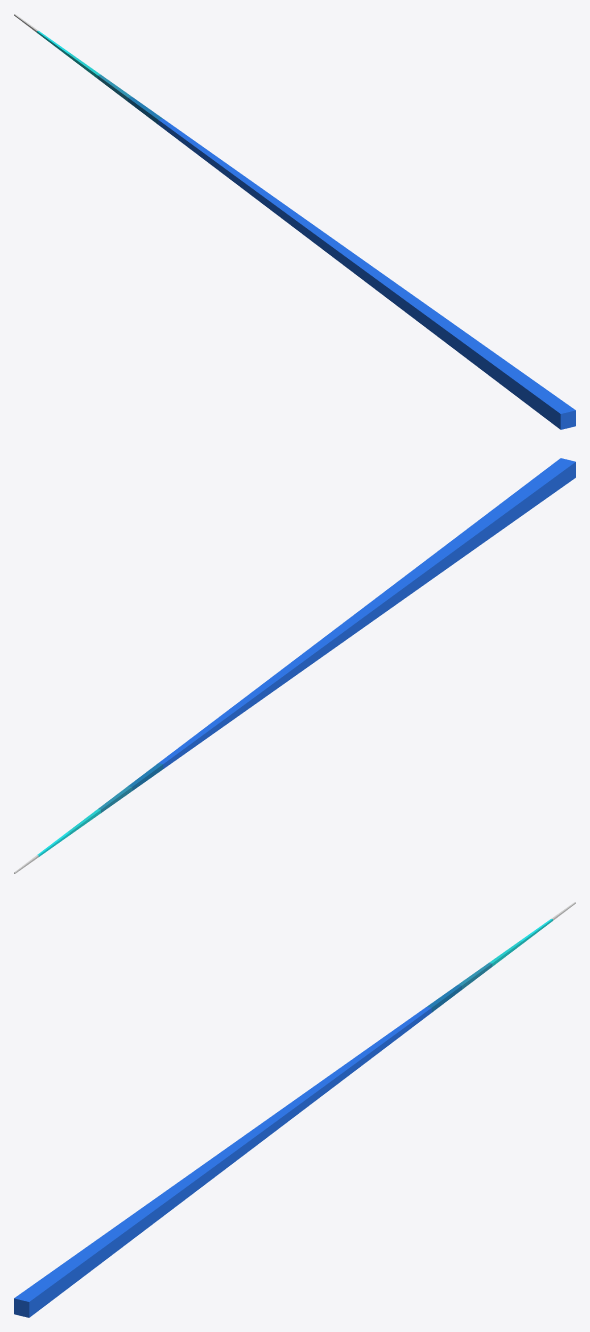
File: MONSTER-02Pj.fbx
3 views of the same model, one above another, from view 1: azimuth 30°, elevation 25°; view 2: azimuth 150°, elevation 25°; view 3: azimuth 330°, elevation 25° (orthographic).
Parts seen in each view (by area): view 1: Cube.001; view 2: Cube.001; view 3: Cube.001.
Part boxes in pixels (x1,y1,x2,y2): Cube.001: [14, 14, 575, 429]; Cube.001: [14, 458, 575, 873]; Cube.001: [14, 902, 575, 1317].
Size of the model in its own units: 18.82 by 18.82 by 1187.
